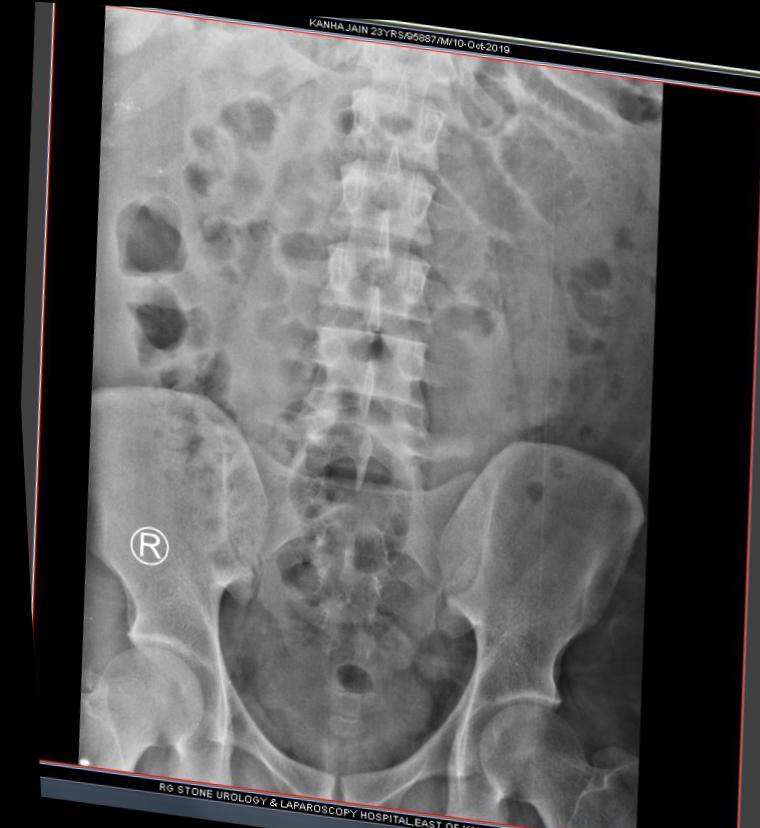bladder: (228, 633, 440, 783)
vertebrae: (338, 80, 449, 173)
